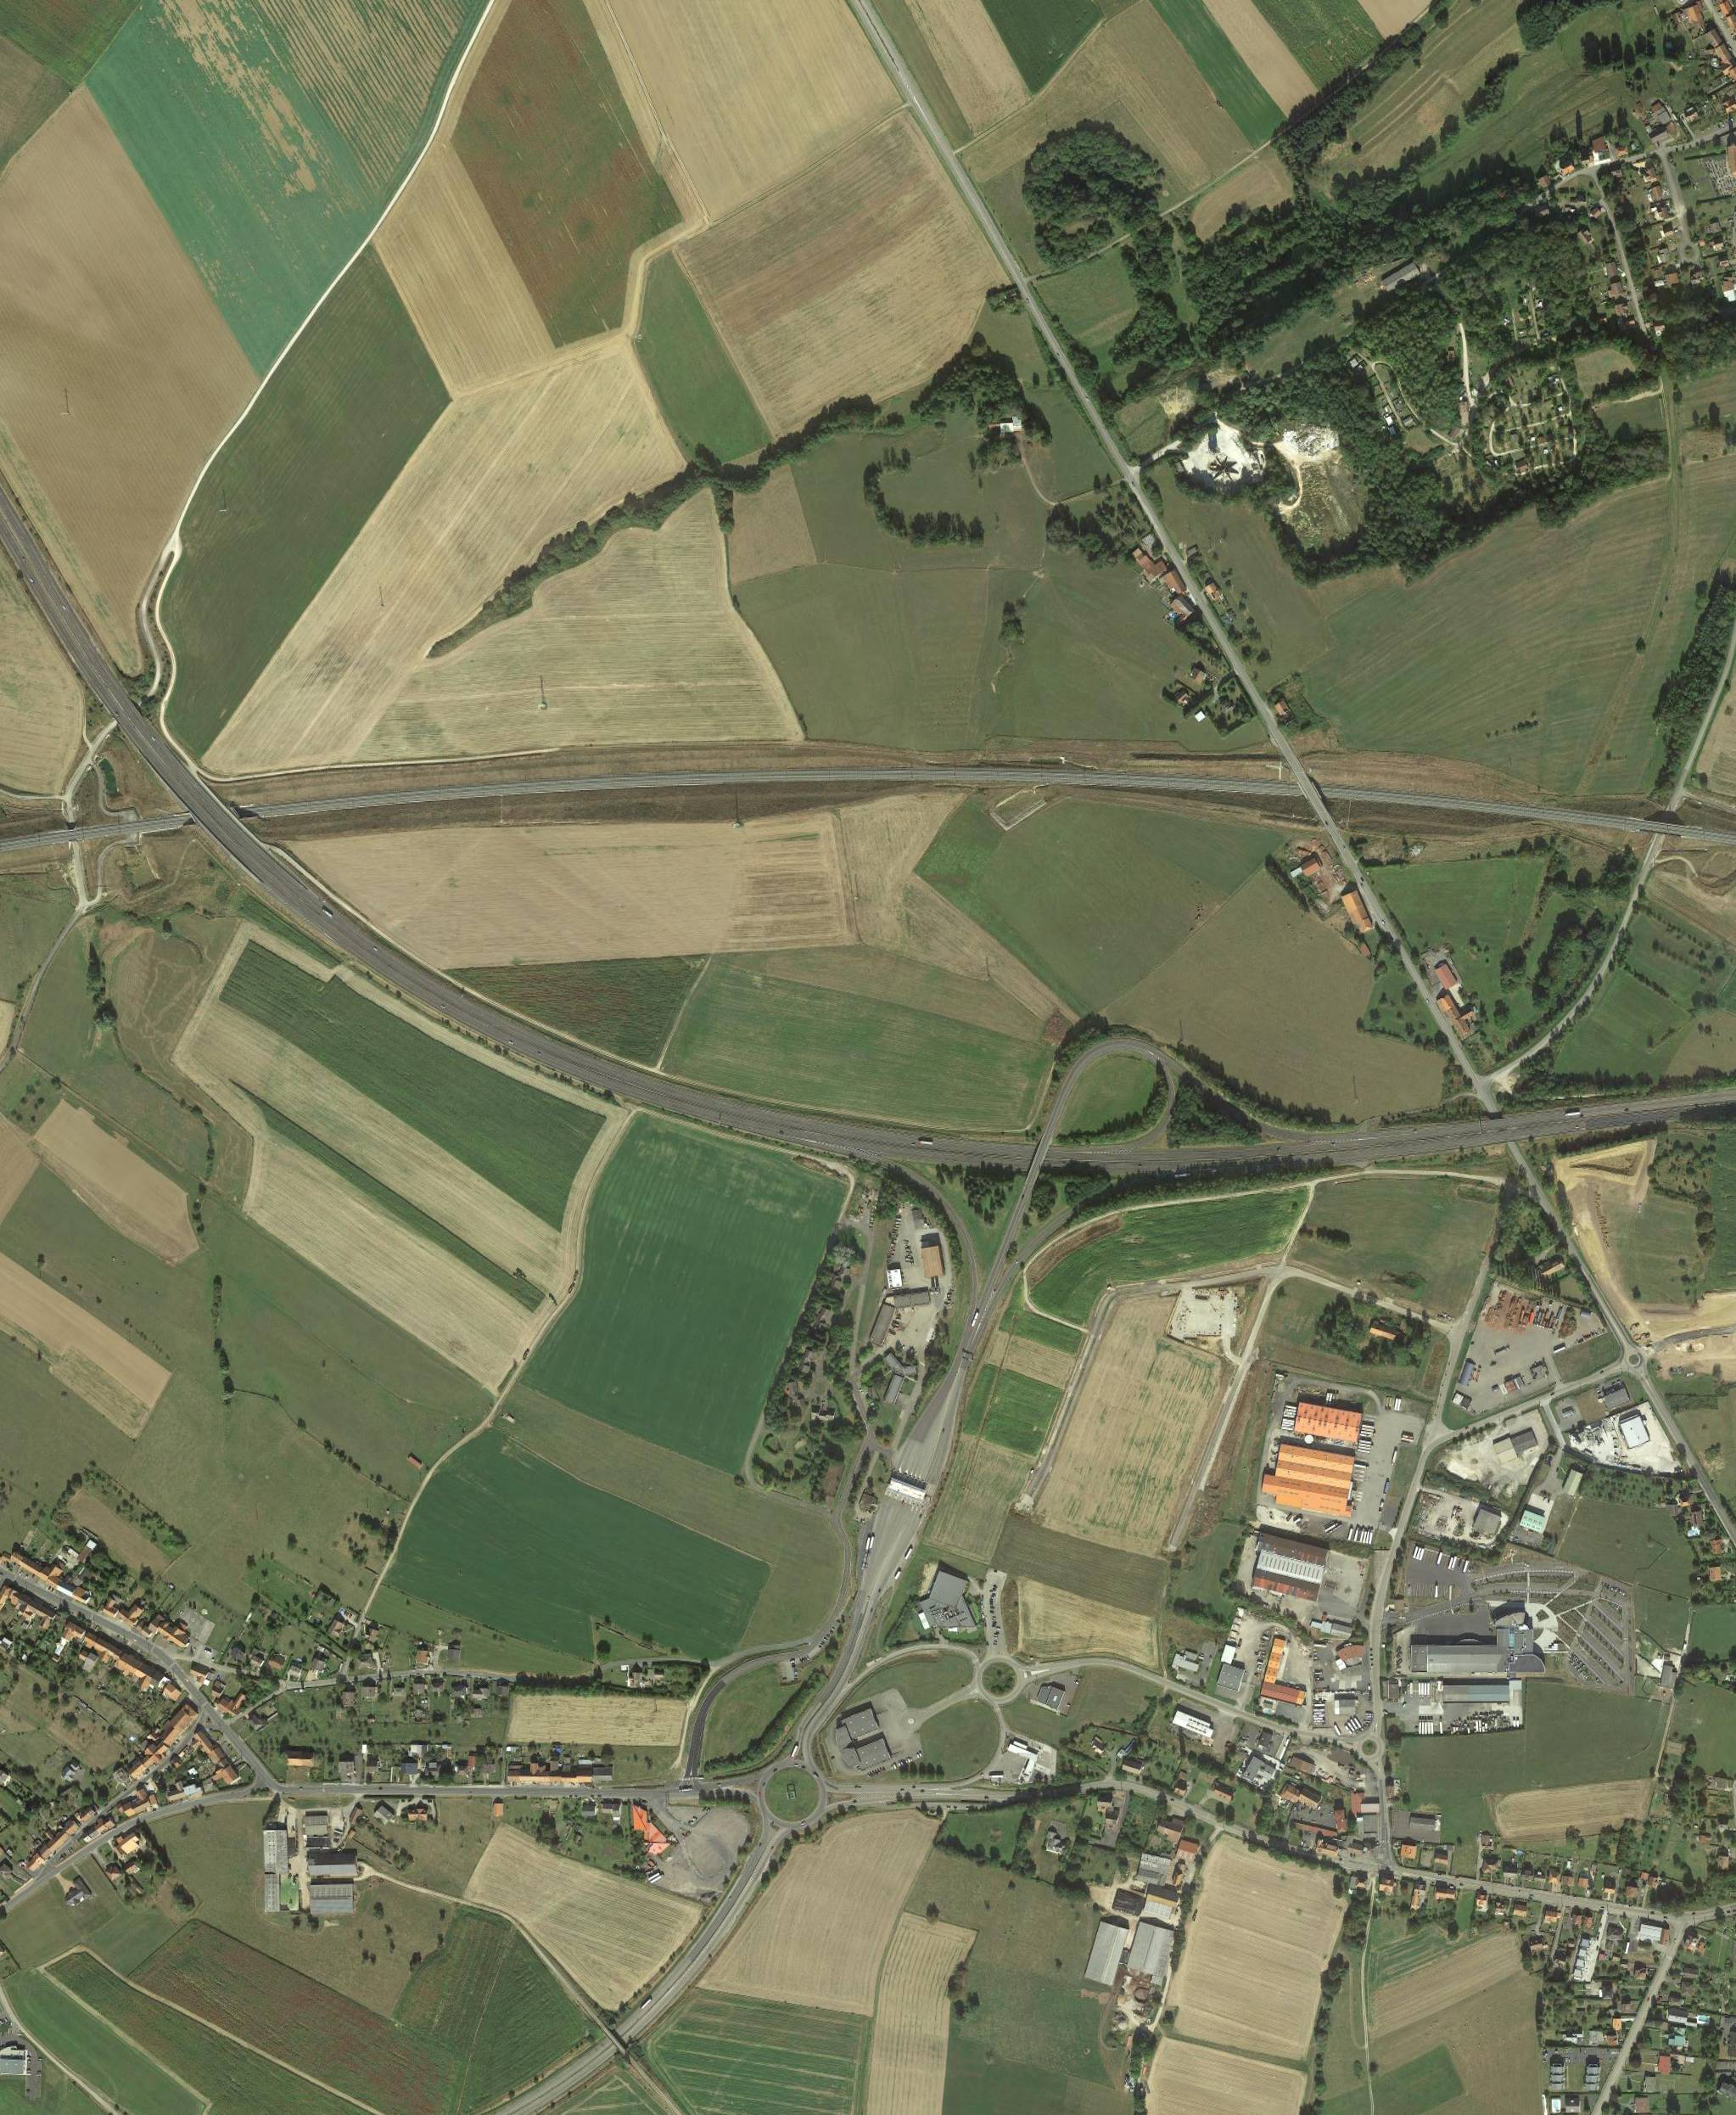roundabout: (757, 1755, 825, 1830), (976, 1653, 1022, 1704), (1357, 1732, 1383, 1762), (1622, 1344, 1646, 1374)
